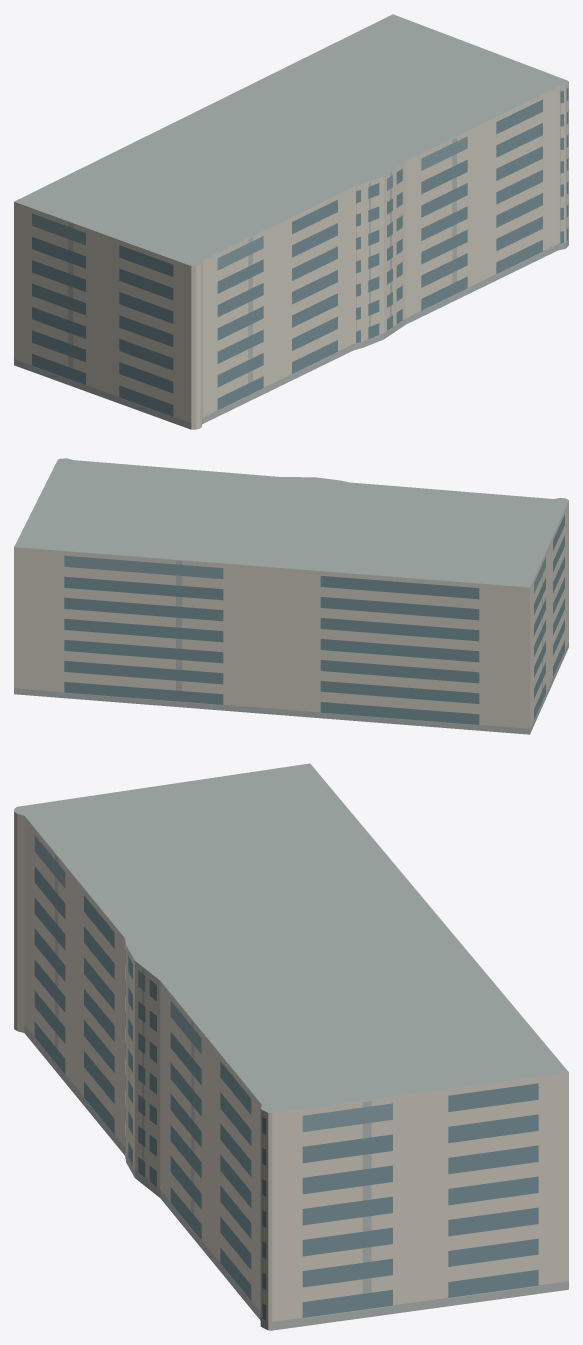
The model's file is survey-upis-32761610.glb.
3 views of the same model, one above another, from view 1: azimuth 30°, elevation 25°; view 2: azimuth 150°, elevation 25°; view 3: azimuth 270°, elevation 25° (orthographic). The views are drawn at different scales.
Parts seen in each view (by area): view 1: survey-upis-32761610.tmp; view 2: survey-upis-32761610.tmp; view 3: survey-upis-32761610.tmp.
Part boxes in pixels (box(x1,y1,x2,y2)): survey-upis-32761610.tmp: box(14, 14, 568, 429); survey-upis-32761610.tmp: box(14, 458, 568, 734); survey-upis-32761610.tmp: box(14, 763, 568, 1330).
Size of the model in its own units: 107 by 30.9 by 71.48.
